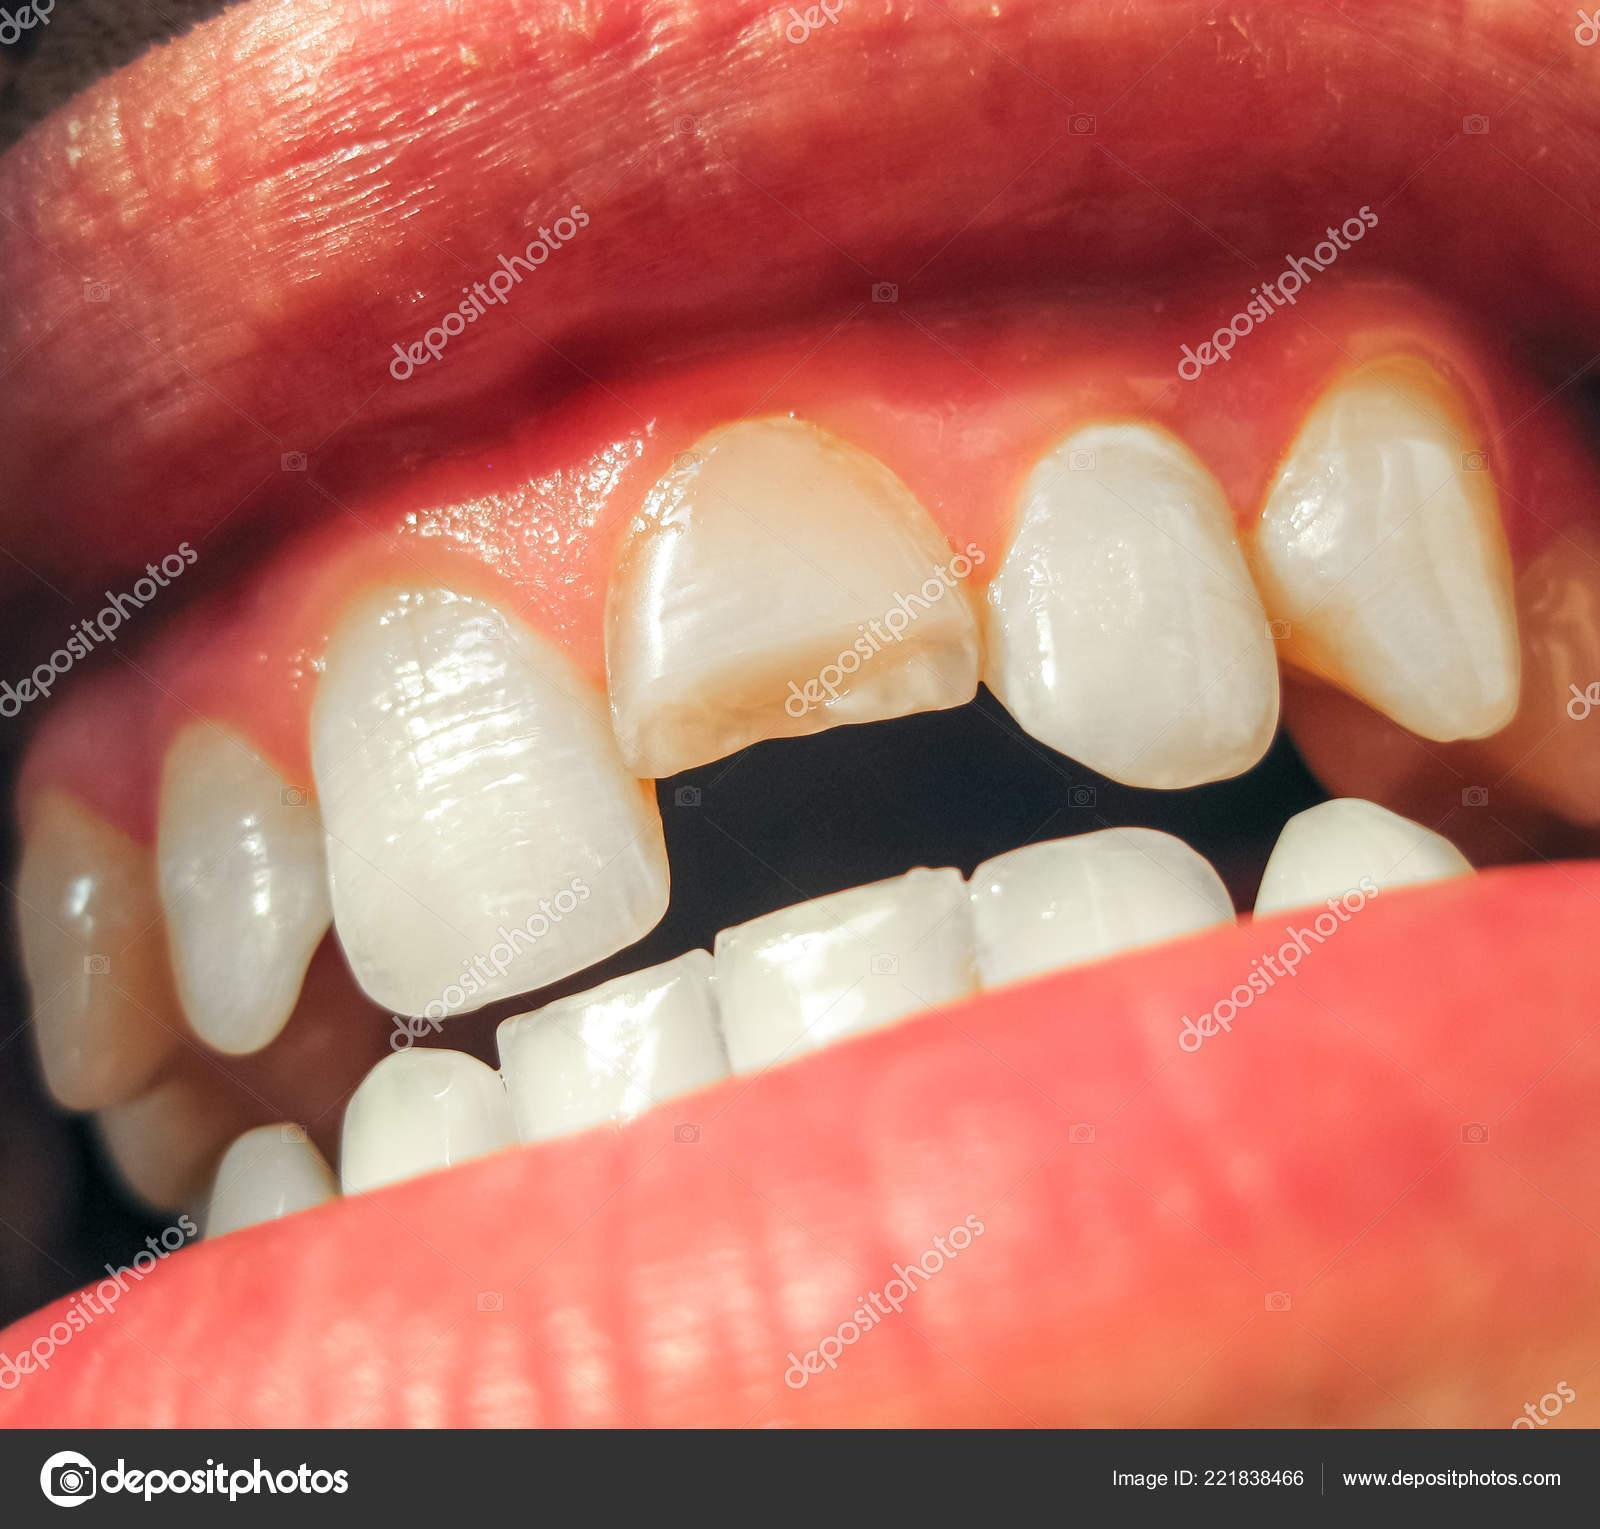cavity: (606, 413, 986, 772), (1251, 353, 1529, 744), (11, 780, 183, 1115)
normal: (306, 590, 669, 1019), (986, 424, 1280, 793), (161, 717, 340, 1055), (711, 862, 979, 1080), (496, 949, 720, 1142), (976, 825, 1230, 977), (1249, 790, 1477, 930), (341, 1046, 509, 1195), (203, 1107, 330, 1247)
